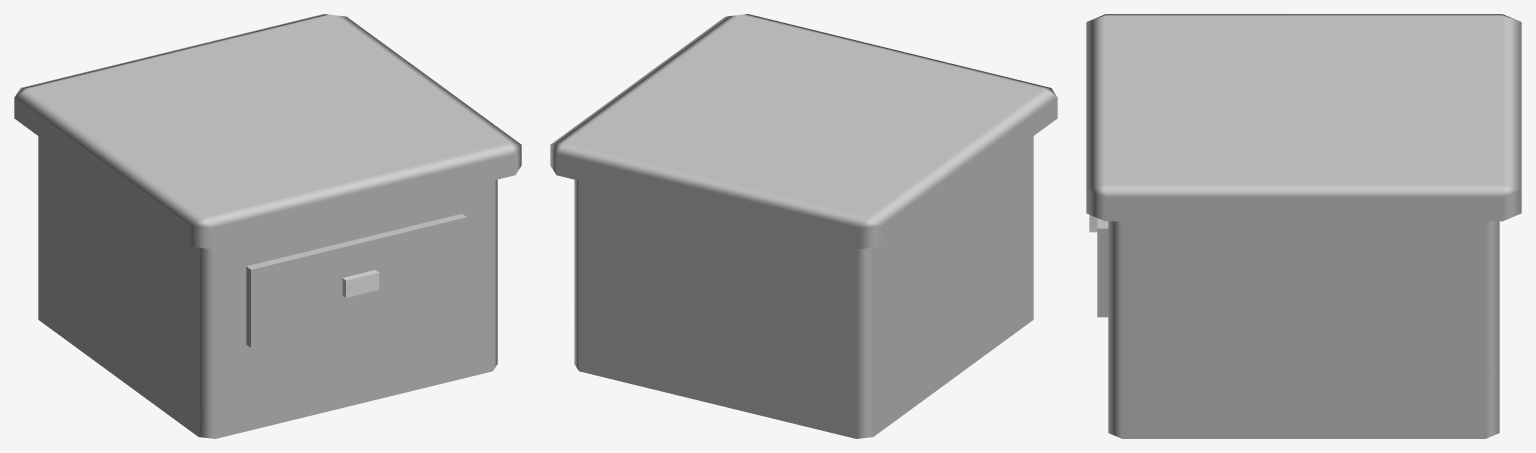
The model's file is end_table.obj.
3 views of the same model, side by side, from view 1: azimuth 30°, elevation 25°; view 2: azimuth 150°, elevation 25°; view 3: azimuth 270°, elevation 25° (orthographic). The views are drawn at different scales.
Parts seen in each view (by area): view 1: tabletop, cabinet_body, drawer_10, handle_15; view 2: cabinet_body, tabletop; view 3: tabletop, cabinet_body, drawer_10.
Boxes of the visible parts, <box> form: tabletop: <box>14,14,521,249</box>; cabinet_body: <box>38,136,497,438</box>; drawer_10: <box>246,213,466,347</box>; handle_15: <box>342,270,379,297</box>; cabinet_body: <box>574,136,1033,438</box>; tabletop: <box>550,14,1057,249</box>; tabletop: <box>1086,14,1521,221</box>; cabinet_body: <box>1108,221,1499,438</box>; drawer_10: <box>1097,218,1108,317</box>.
Bounding box in the file's own units: 0.8 × 0.52 × 0.8.
